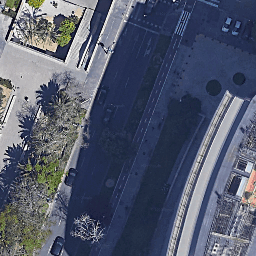car: (49, 236, 65, 256), (96, 84, 110, 105), (102, 103, 116, 123), (65, 167, 78, 186), (244, 20, 254, 39), (231, 20, 242, 35), (222, 18, 233, 32)
